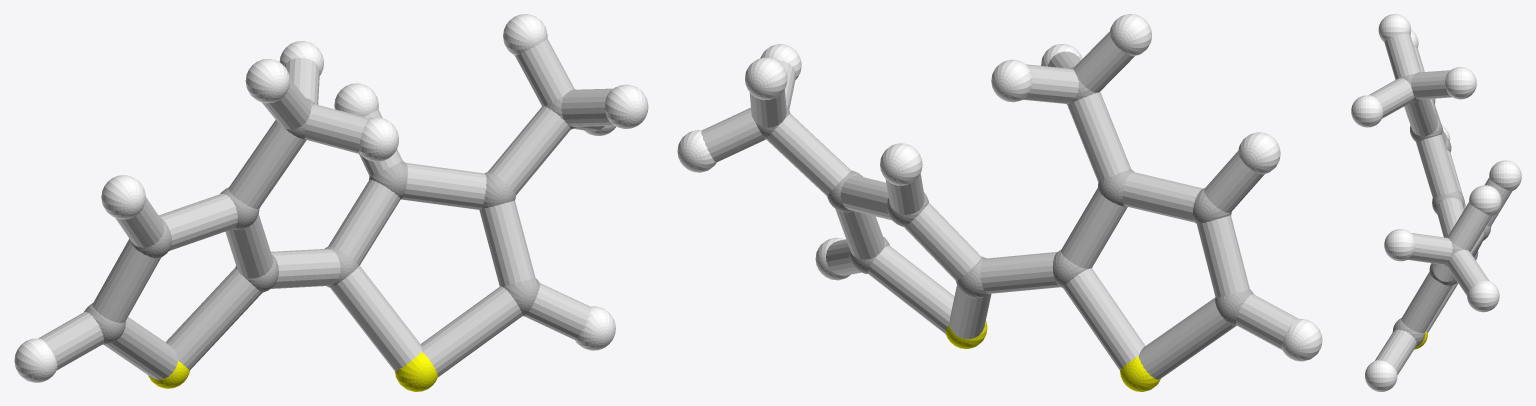
The model's file is color.glb.
The picture shows the model from 3 angles, left to right: view 1: azimuth 30°, elevation 25°; view 2: azimuth 150°, elevation 25°; view 3: azimuth 270°, elevation 25°; orthographic projection. The views are drawn at different scales.
Visible parts, largest first — view 1: grp7965, grp3621, grp1, grp7241; view 2: grp7965, grp3621, grp1, grp7241; view 3: grp7965, grp3621, grp1.
Part boxes in pixels (bbox=[...]): grp7965: bbox=[39, 38, 613, 379]; grp3621: bbox=[14, 14, 648, 382]; grp1: bbox=[84, 89, 575, 344]; grp7241: bbox=[148, 352, 437, 391]; grp7965: bbox=[701, 31, 1298, 379]; grp3621: bbox=[677, 14, 1322, 361]; grp1: bbox=[756, 67, 1253, 325]; grp7241: bbox=[945, 321, 1160, 391]; grp7965: bbox=[1369, 33, 1511, 374]; grp3621: bbox=[1351, 14, 1521, 391]; grp1: bbox=[1392, 74, 1491, 346].
Bounding box in the file's own units: 9.84 × 5.59 × 3.13.
